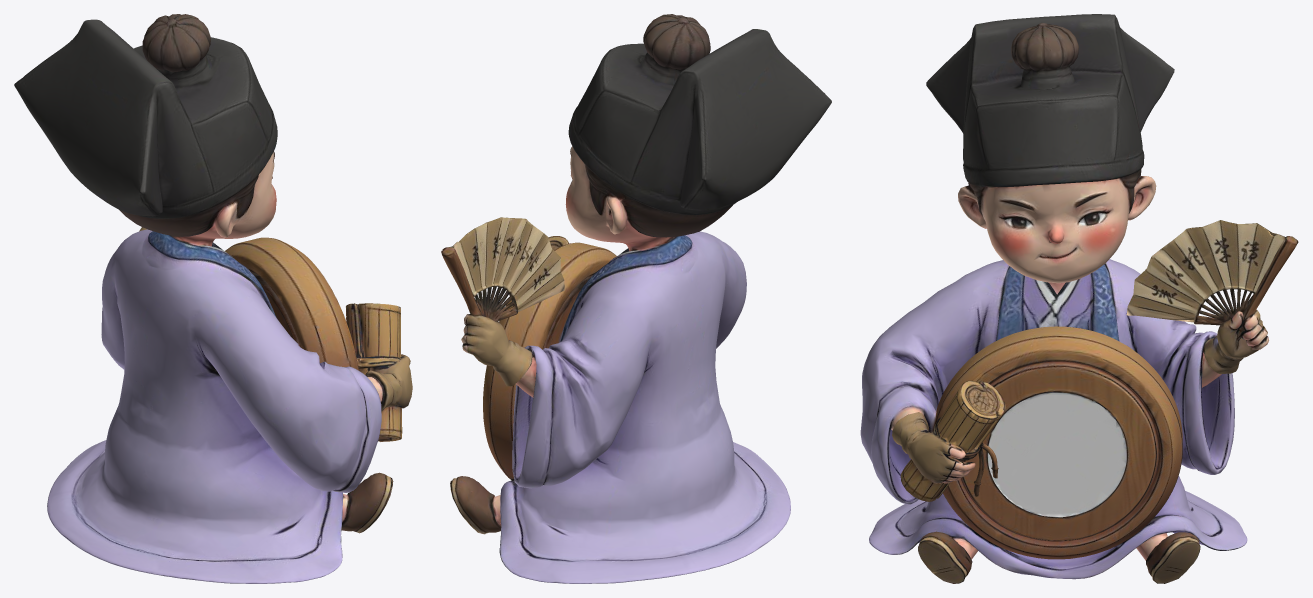
File: n_w04_ming_scholar.glb
3 views of the same model, side by side, from view 1: azimuth 30°, elevation 25°; view 2: azimuth 150°, elevation 25°; view 3: azimuth 270°, elevation 25° (orthographic). The views are drawn at different scales.
Parts seen in each view (by area): view 1: tripo_node_afd84c72-9cba-4b85-ac30-7b528dfa8f85; view 2: tripo_node_afd84c72-9cba-4b85-ac30-7b528dfa8f85; view 3: tripo_node_afd84c72-9cba-4b85-ac30-7b528dfa8f85.
Part boxes in pixels (<box>): tripo_node_afd84c72-9cba-4b85-ac30-7b528dfa8f85: <box>14,14,412,583</box>; tripo_node_afd84c72-9cba-4b85-ac30-7b528dfa8f85: <box>441,14,831,583</box>; tripo_node_afd84c72-9cba-4b85-ac30-7b528dfa8f85: <box>860,14,1298,583</box>.
Size of the model in its own units: 0.5725 by 0.9805 by 0.7854.
1 material, 1 textured.
